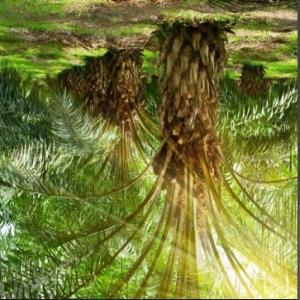palm tree: (0, 11, 298, 298)
